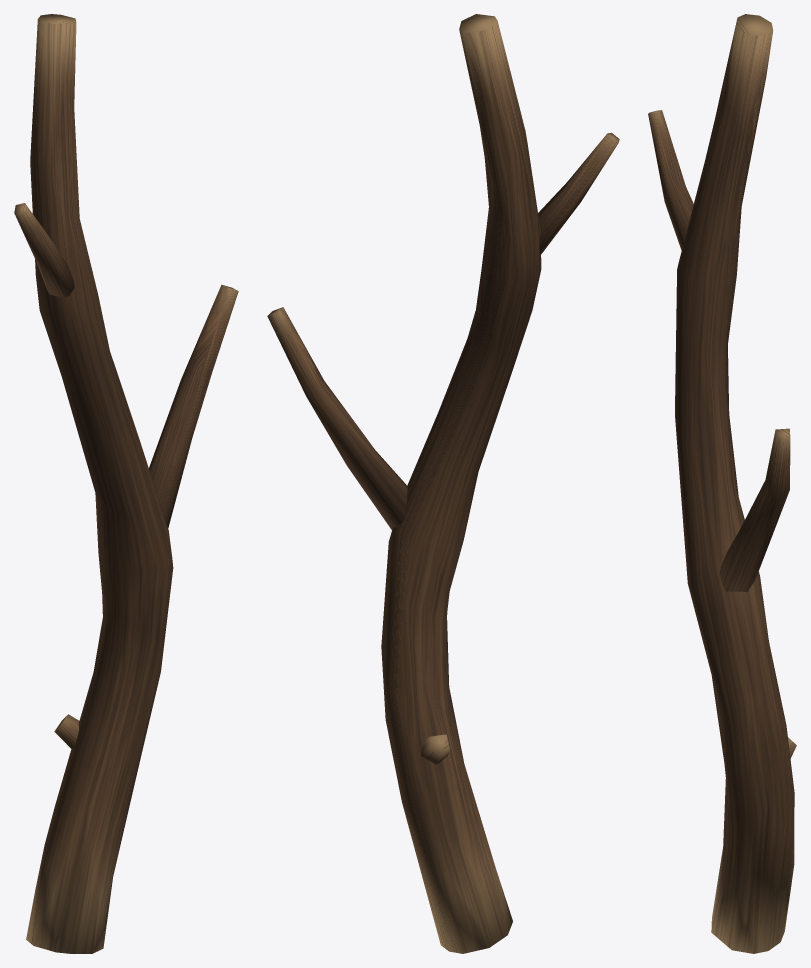
Rendered from branch_fallen_lod1.glb.
3 renders of one model, left to right at view 1: azimuth 30°, elevation 25°; view 2: azimuth 150°, elevation 25°; view 3: azimuth 270°, elevation 25°, orthographic. The views are drawn at different scales.
Parts seen in each view (by area): view 1: Branch_Fallen.001; view 2: Branch_Fallen.001; view 3: Branch_Fallen.001.
Part boxes in pixels (x1,y1,x2,y2): Branch_Fallen.001: (14,14,238,953); Branch_Fallen.001: (267,14,619,953); Branch_Fallen.001: (648,14,796,953).
Size of the model in its own units: 0.182 by 0.5673 by 0.0836.
Materials: 1 (1 with a texture image).
